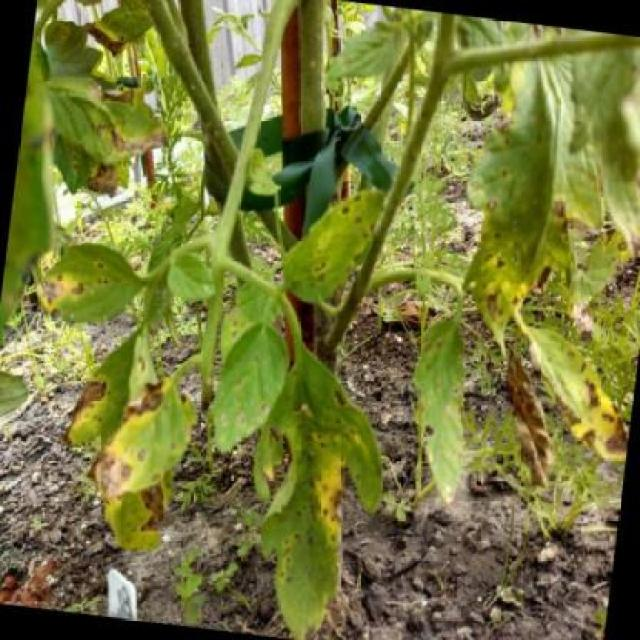Septoria leaf spot: (223, 337, 403, 640), (386, 280, 502, 534), (100, 337, 211, 511), (42, 311, 158, 472), (274, 175, 394, 320), (198, 304, 298, 464), (29, 226, 145, 331)
